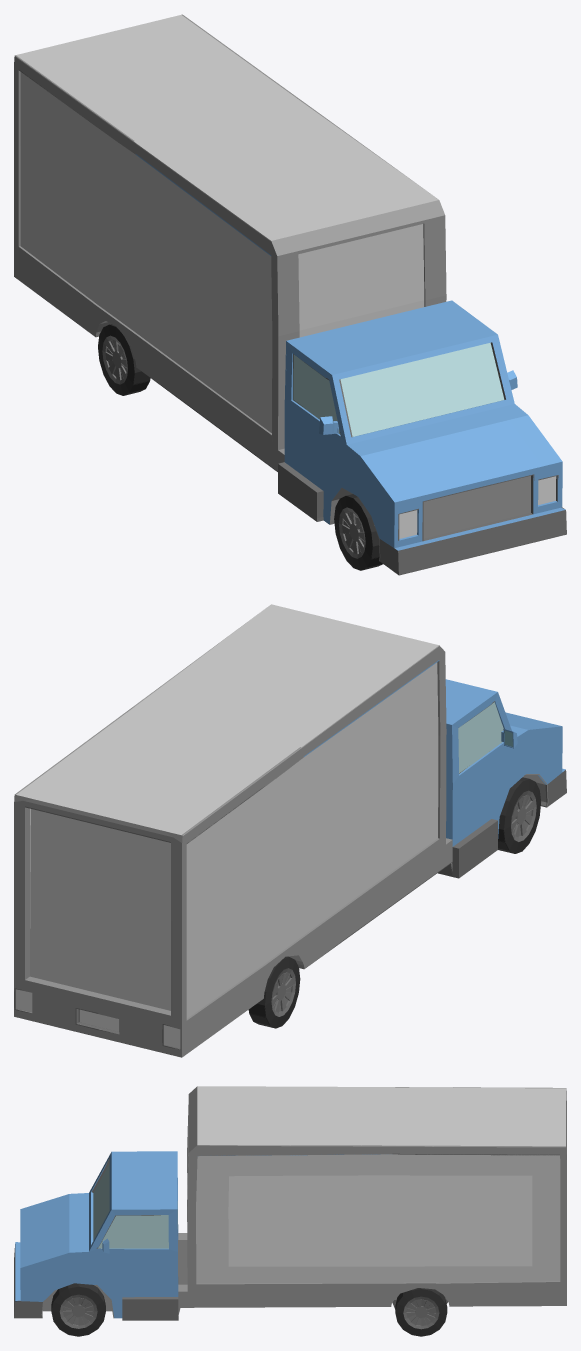
File: truck (4).fbx
3 renders of one model, top to bottom at view 1: azimuth 30°, elevation 25°; view 2: azimuth 150°, elevation 25°; view 3: azimuth 270°, elevation 25°, orthographic. The views are drawn at different scales.
Parts seen in each view (by area): view 1: TRUCK; view 2: TRUCK, VRATA; view 3: TRUCK.
Boxes of the visible parts, x1,y1,x2,y2 form: TRUCK: (14, 14, 566, 575); TRUCK: (14, 604, 566, 1057); VRATA: (30, 809, 170, 1010); TRUCK: (14, 1086, 566, 1336).
Size of the model in its own units: 131 by 172 by 448.
